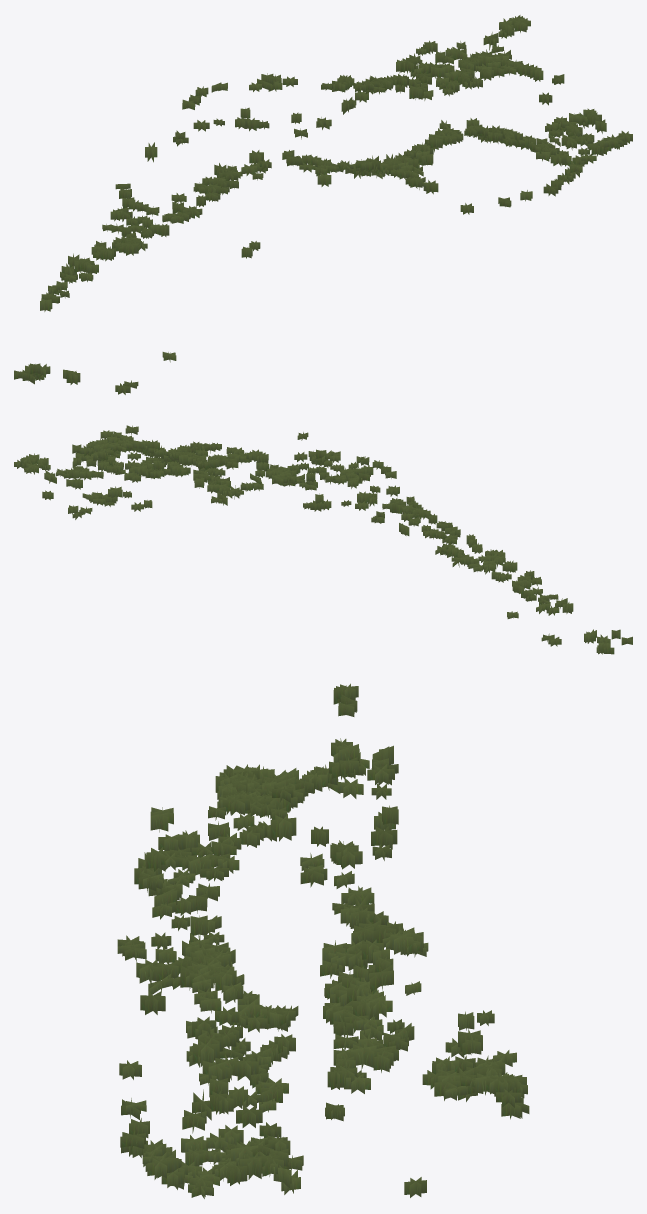
The model's file is TRB8-GRASS-CHUNK-0-0.glb.
The picture shows the model from 3 angles, top to bottom: view 1: azimuth 30°, elevation 25°; view 2: azimuth 150°, elevation 25°; view 3: azimuth 270°, elevation 25°; orthographic projection. The views are drawn at different scales.
Parts seen in each view (by area): view 1: TRB8-GRASS-CHUNK-0-0; view 2: TRB8-GRASS-CHUNK-0-0; view 3: TRB8-GRASS-CHUNK-0-0.
Boxes of the visible parts, box(x1,y1,x2,y2) form: TRB8-GRASS-CHUNK-0-0: box(14, 15, 632, 394); TRB8-GRASS-CHUNK-0-0: box(14, 425, 632, 654); TRB8-GRASS-CHUNK-0-0: box(117, 683, 529, 1198).
Size of the model in its own units: 27.04 by 9.45 by 9.07.
1 material, 1 textured.
